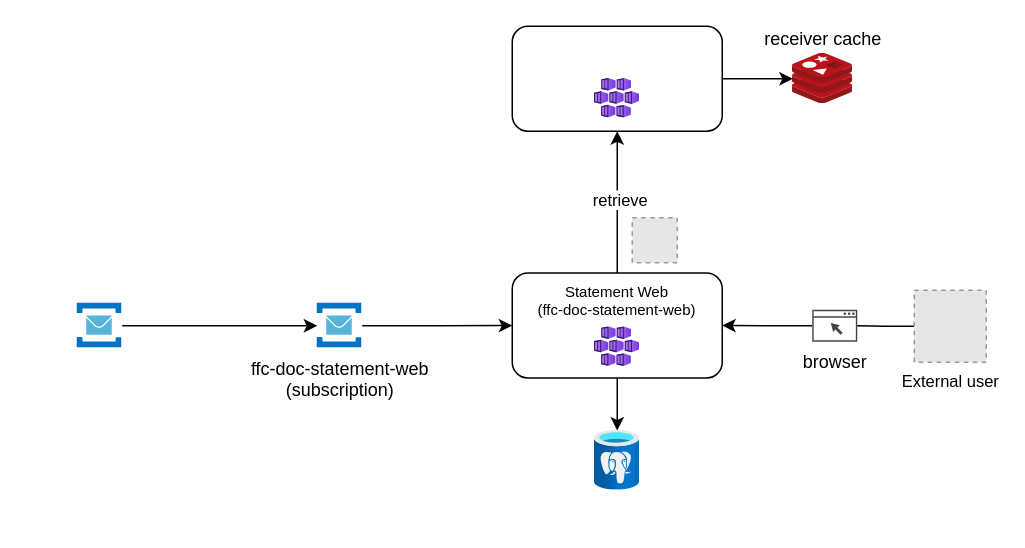
Some shapes in this 1025 by 548 pixel diagram are drawn without their labels. Grey dashed boxes stand in for pictures. The box of each missing label's shape, as (x1, y1, x2, y2) in pixels:
ffc-doc-statements (topic): (76, 303, 122, 348)
Statement Receiver (ffc-doc-statement-receiver): (511, 25, 722, 131)
web database: (594, 430, 639, 490)
